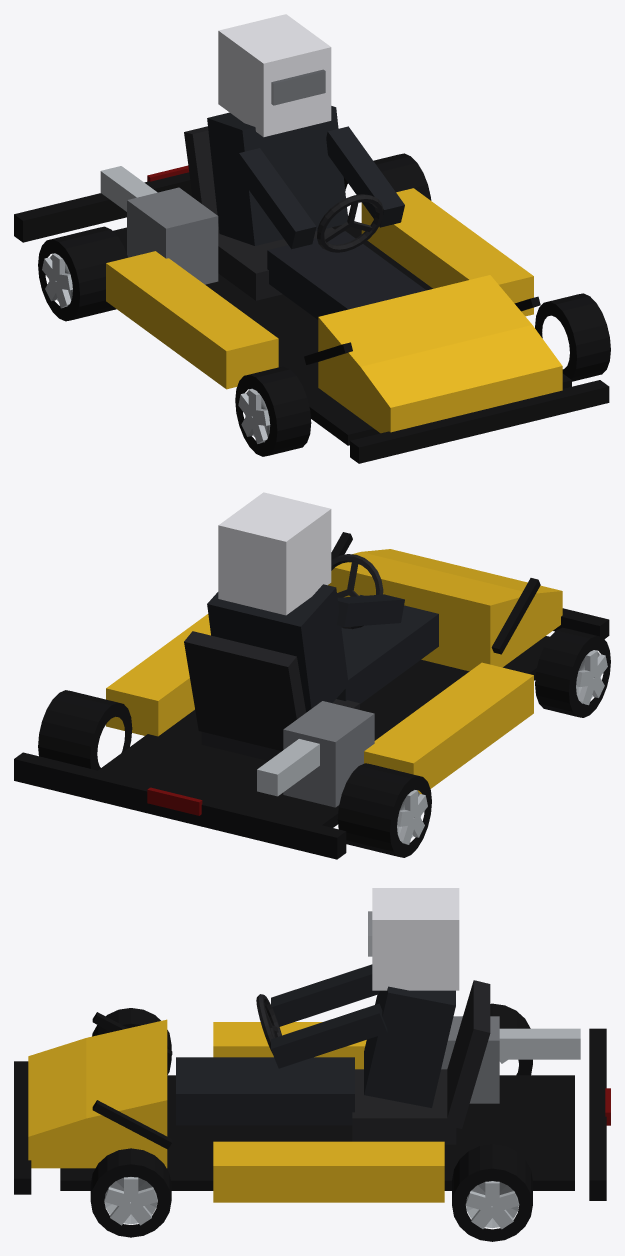
File: body.glb
The picture shows the model from 3 angles, top to bottom: view 1: azimuth 30°, elevation 25°; view 2: azimuth 150°, elevation 25°; view 3: azimuth 270°, elevation 25°; orthographic projection. The views are drawn at different scales.
Parts seen in each view (by area): view 1: fairing, driver, tray, helmet, engine, wheel_RR, wheel_RF, seatC, wheel_LF, steering_wheel, wheel_LR, exhaust (+1 smaller); view 2: fairing, tray, driver, seatC, helmet, wheel_RR, engine, wheel_RF, wheel_LR, exhaust, steering_wheel, taillight_C; view 3: fairing, driver, tray, helmet, seatC, wheel_LR, wheel_LF, exhaust, engine, wheel_RF, wheel_RR, steering_wheel.
Part boxes in pixels (x1,y1,x2,y2): fairing: [106, 188, 562, 433]; driver: [207, 106, 426, 319]; tray: [14, 172, 609, 463]; helmet: [218, 14, 331, 137]; engine: [127, 187, 218, 284]; wheel_RR: [38, 226, 127, 321]; wheel_RF: [235, 366, 311, 456]; seatC: [184, 126, 334, 300]; wheel_LF: [535, 293, 610, 381]; steering_wheel: [317, 194, 383, 252]; wheel_LR: [343, 153, 431, 215]; exhaust: [100, 166, 157, 211]; fairing: [106, 549, 562, 793]; tray: [14, 532, 609, 859]; driver: [207, 584, 438, 712]; seatC: [184, 631, 359, 760]; helmet: [218, 492, 331, 615]; wheel_RR: [337, 763, 431, 857]; engine: [283, 701, 374, 807]; wheel_RF: [535, 627, 610, 717]; wheel_LR: [38, 690, 132, 770]; exhaust: [257, 739, 319, 796]; steering_wheel: [331, 554, 383, 629]; taillight_C: [147, 787, 202, 815]; fairing: [28, 1019, 444, 1202]; driver: [176, 964, 455, 1125]; tray: [14, 1012, 606, 1200]; helmet: [372, 888, 459, 990]; seatC: [352, 980, 490, 1144]; wheel_LR: [452, 1144, 532, 1241]; wheel_LF: [90, 1148, 171, 1237]; exhaust: [499, 1028, 580, 1059]; engine: [441, 1016, 499, 1103]; wheel_RF: [92, 1008, 171, 1074]; wheel_RR: [490, 1003, 532, 1075]; steering_wheel: [256, 994, 281, 1052].
Bounding box in the file's own units: 1.37 × 0.975 × 2.06.
